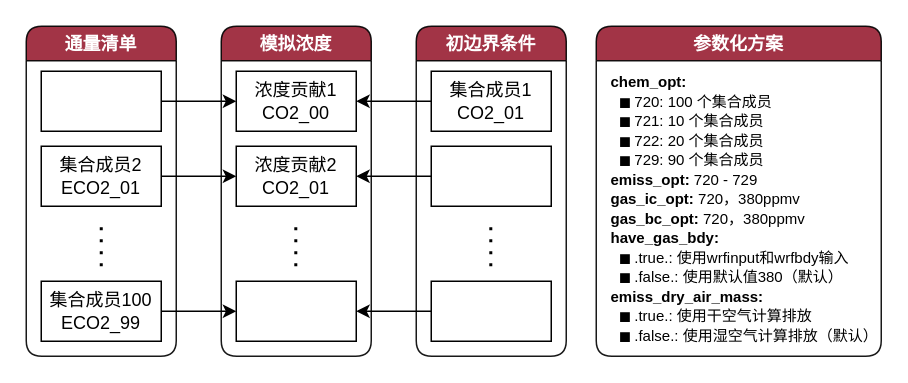
This 908x383 diagram has some shape labels left out. The centre of each missing label's shape, as x and y in pixels:
"浓度贡献100 CO2_99" belongs at pixel 295 310.
"集合成员1 ECO2_00" belongs at pixel 100 100.
"集合成员100 CO2_99" belongs at pixel 490 310.
"集合成员2 CO2_01" belongs at pixel 490 175.
